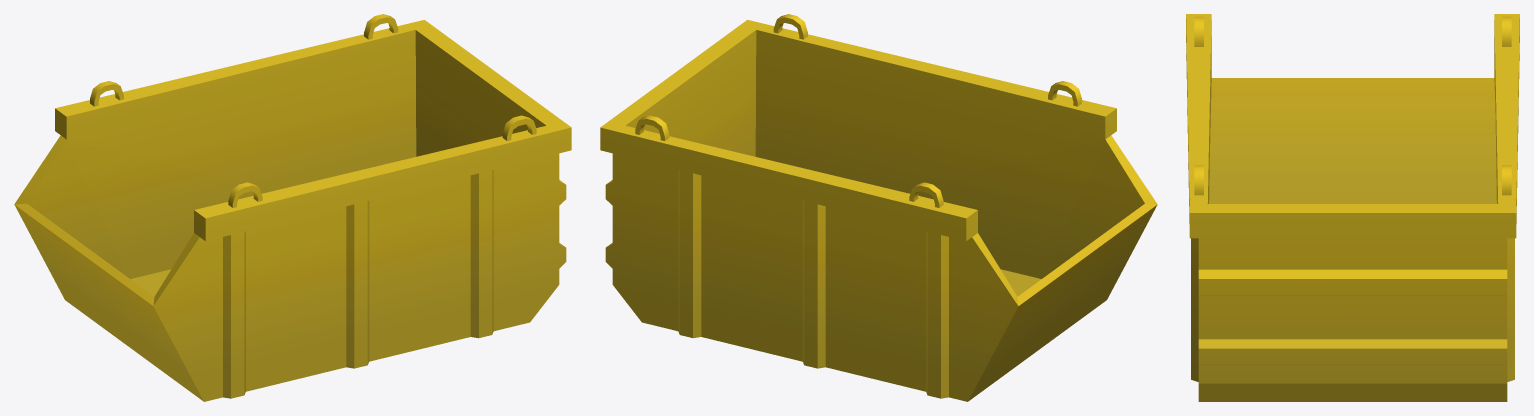
File: RubbleContainer_C_1.fbx
3 renders of one model, left to right at view 1: azimuth 30°, elevation 25°; view 2: azimuth 150°, elevation 25°; view 3: azimuth 270°, elevation 25°, orthographic. The views are drawn at different scales.
Visible parts, largest first — view 1: RubbleContainer_C_1; view 2: RubbleContainer_C_1; view 3: RubbleContainer_C_1.
Part boxes in pixels (left/top/right/bottom): RubbleContainer_C_1: left=14, top=14, right=571, bottom=401; RubbleContainer_C_1: left=600, top=14, right=1157, bottom=401; RubbleContainer_C_1: left=1186, top=14, right=1519, bottom=401.
Bounding box in the file's own units: 413 × 197 × 260.
